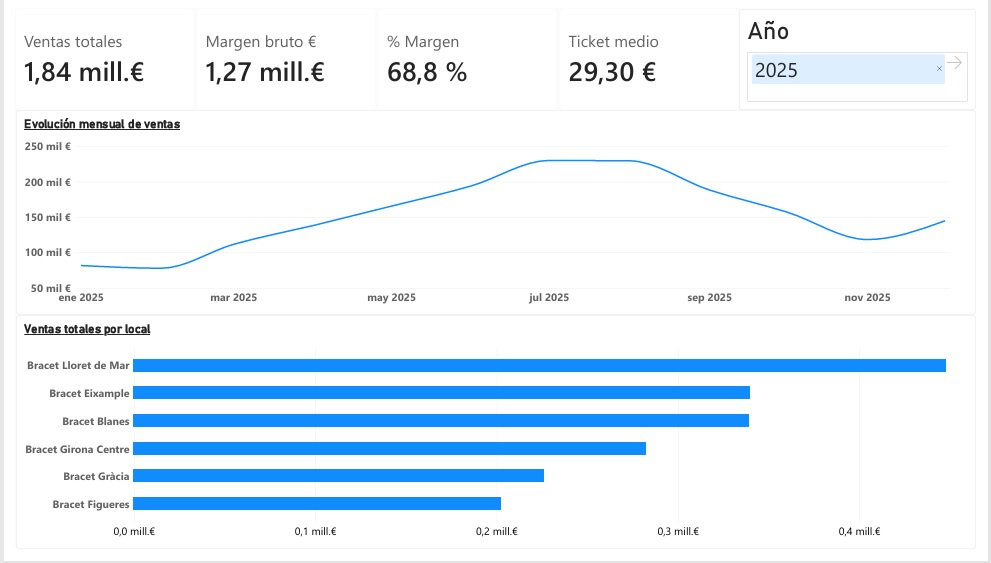

The dashboard page shown, as its layout file describes it:
{"tool":"powerbi","page":{"name":"Resumen ejecutivo","canvas":[1920,1080],"ordinal":0},"visuals":[{"type":"cardVisual","fields":{"Data":["Medidas.Ventas totales","Medidas.Margen bruto €","Medidas.% Margen","Medidas.Ticket medio"]},"box":[0,0,1445.7,202],"z":0},{"type":"lineChart","title":"Evolución mensual de ventas","fields":{"Y":["Medidas.Ventas totales"],"Category":["dim_calendario.Año_mes"]},"box":[0,202,1919.8,410.3],"z":1000},{"type":"barChart","title":"Ventas totales por local","fields":{"Category":["dim_locales.nombre"],"Y":["Medidas.Ventas totales"]},"box":[0,612.3,1919.8,467.7],"z":2000},{"type":"textSlicer","fields":{"Values":["dim_calendario.Año"]},"box":[1445.7,0,474.1,202],"z":3000}]}

Visuals, with their boxes in screenshot pixels (x1, y1, x2, y2), scaled from the page's 1920x1080 canvas onto the 991x563 screenshot:
cardVisual - Medidas.Ventas totales x Medidas.Margen bruto €: detection(0, 0, 746, 105)
"Evolución mensual de ventas" lineChart: detection(0, 105, 990, 319)
"Ventas totales por local" barChart: detection(0, 319, 990, 562)
textSlicer - dim_calendario.Año: detection(746, 0, 990, 105)
